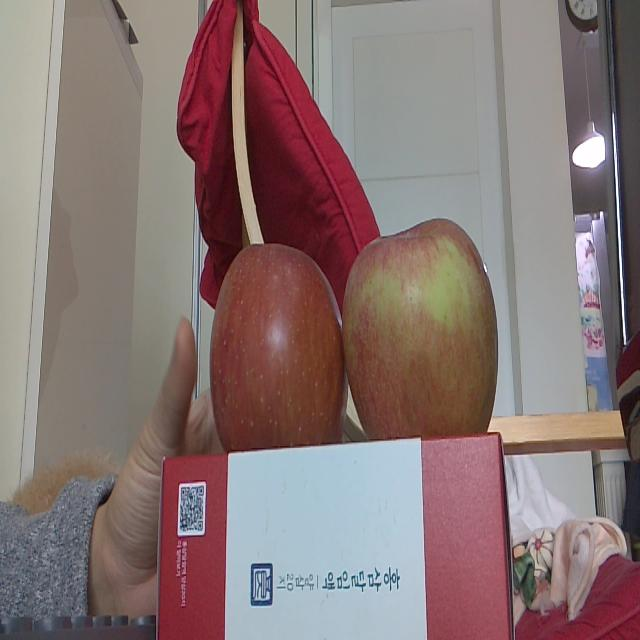apple: (340, 217, 498, 437), (210, 241, 344, 450)
